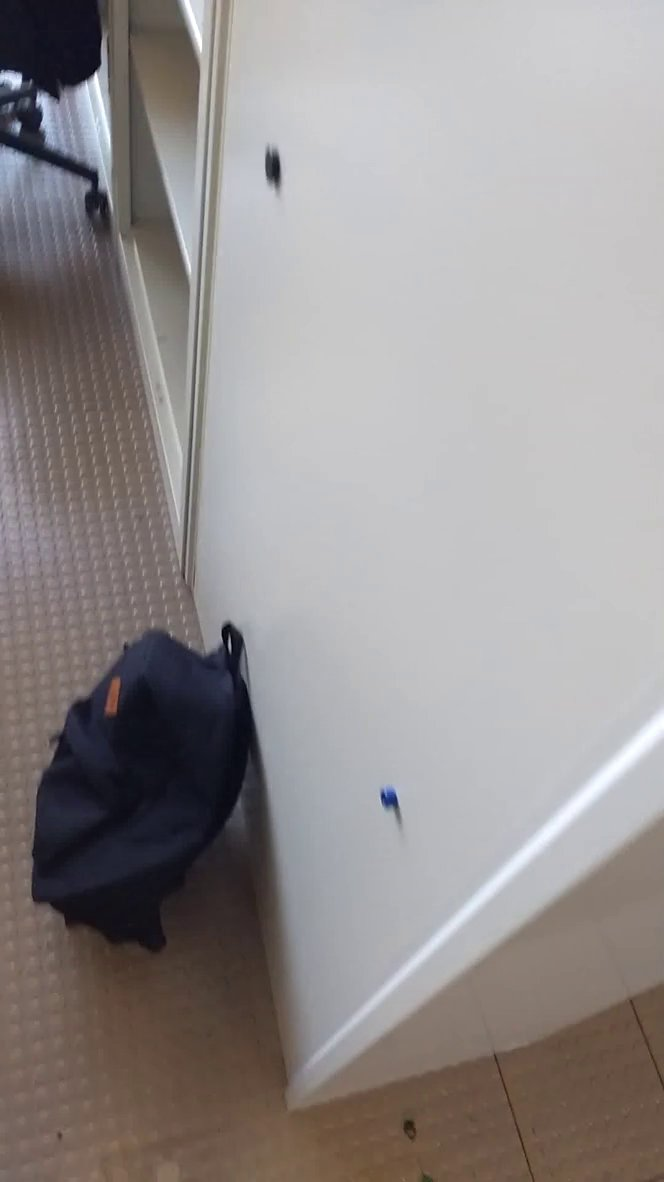bag: (23, 612, 269, 990)
